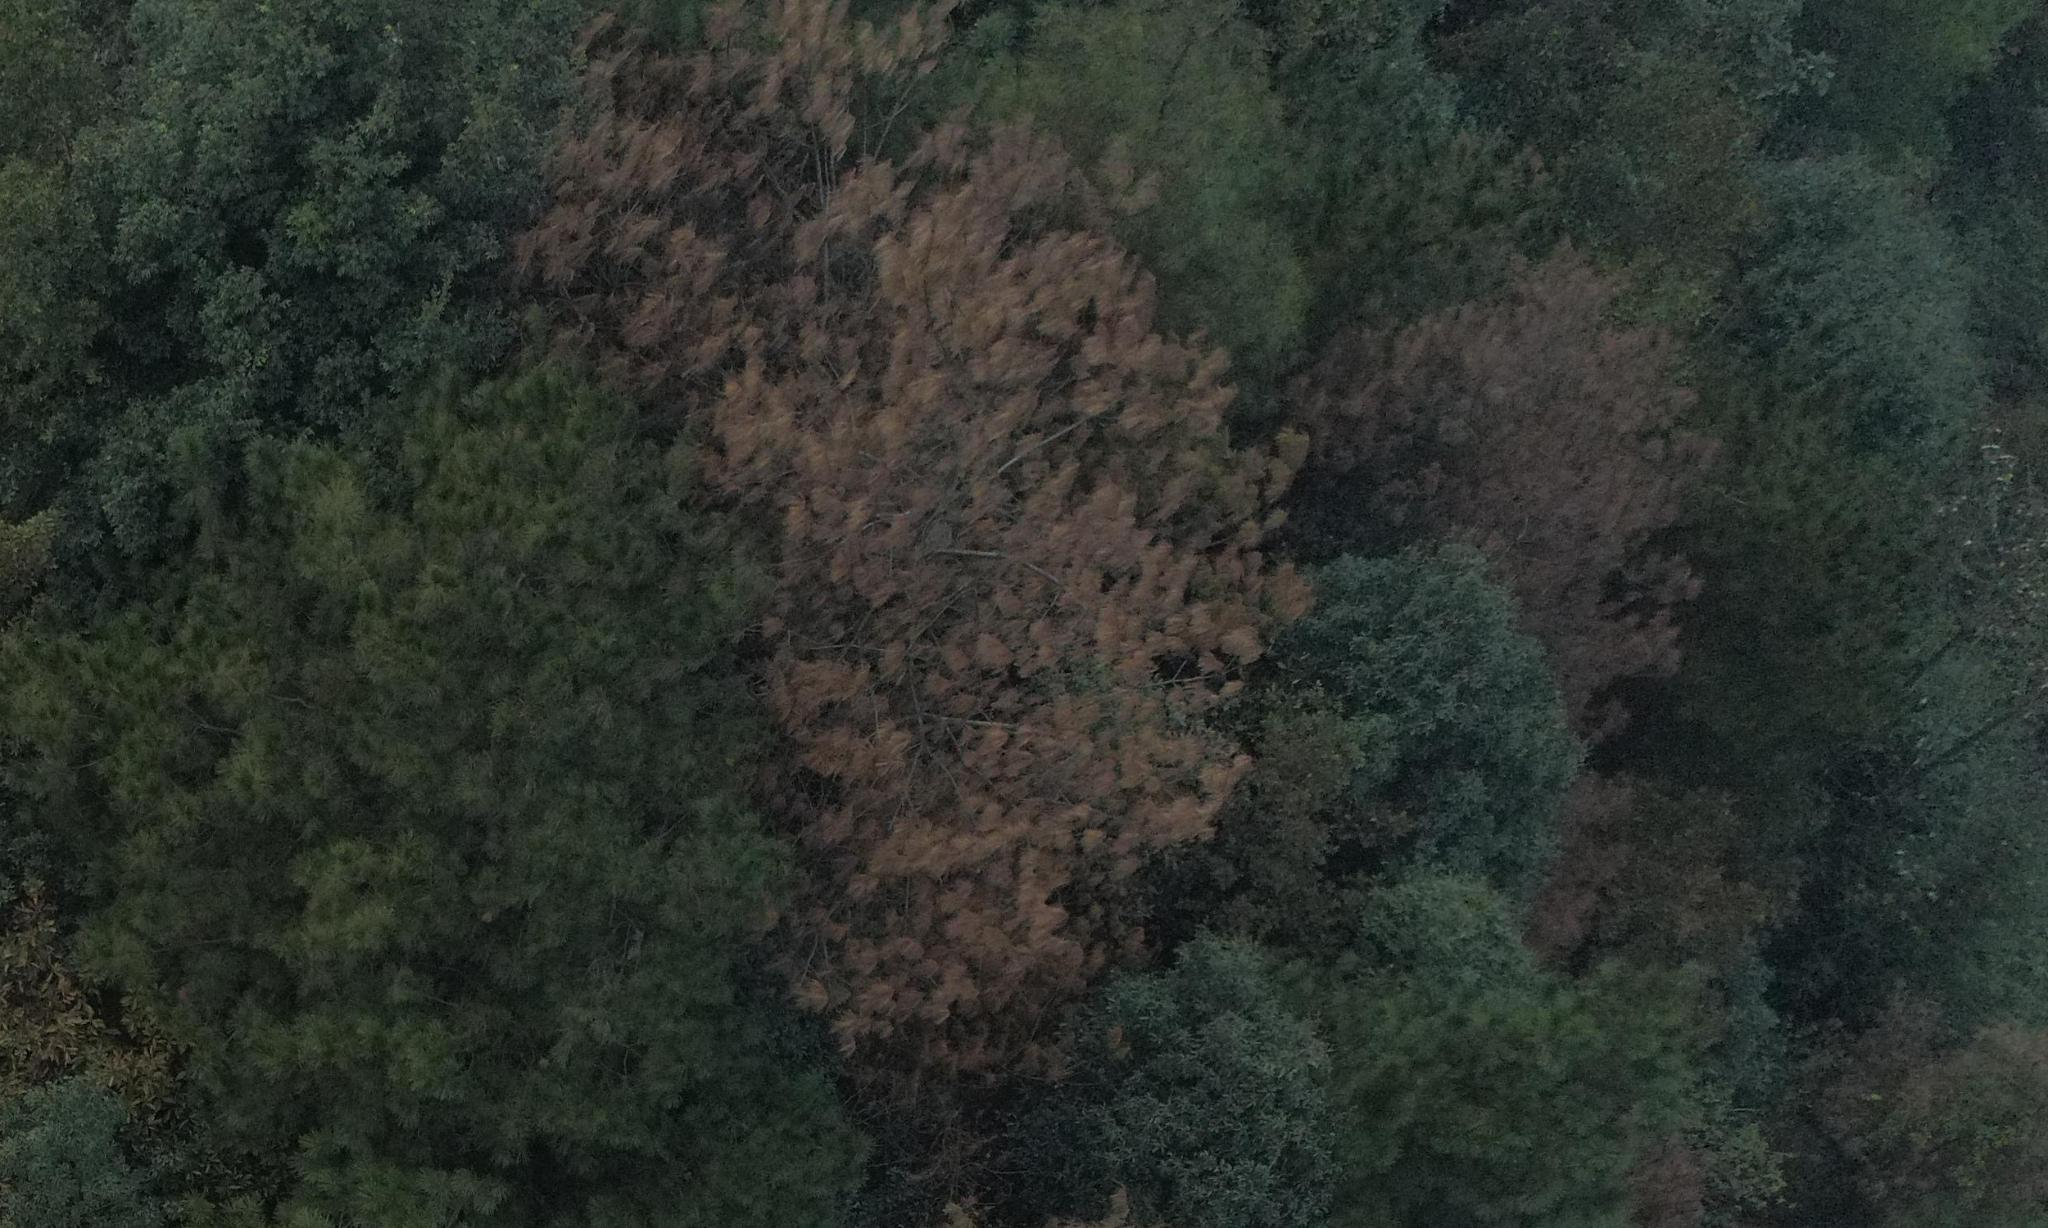heavy: (564, 10, 1291, 1066)
